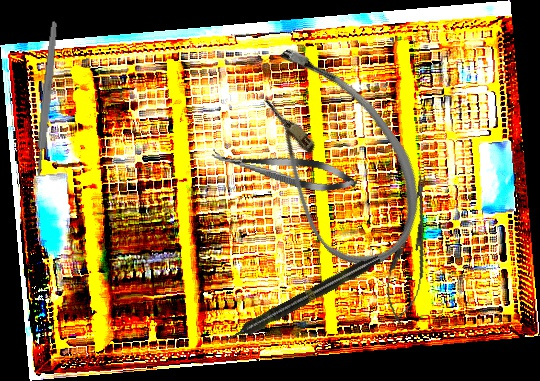Cannula: (216, 28, 451, 285)
Handpiece: (218, 251, 383, 349)
Micro Scissor: (208, 141, 360, 198)
Needle Holder: (379, 170, 442, 328)
Scalpel Handle: (33, 20, 60, 177)
